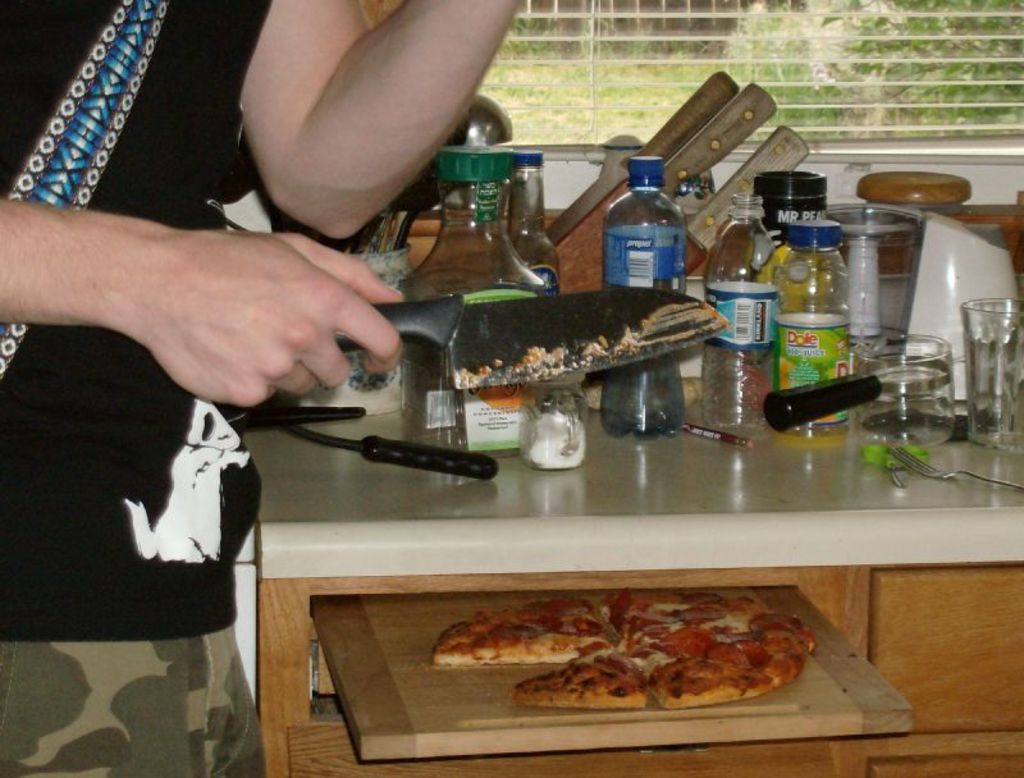Pizza: (437, 589, 817, 740)
